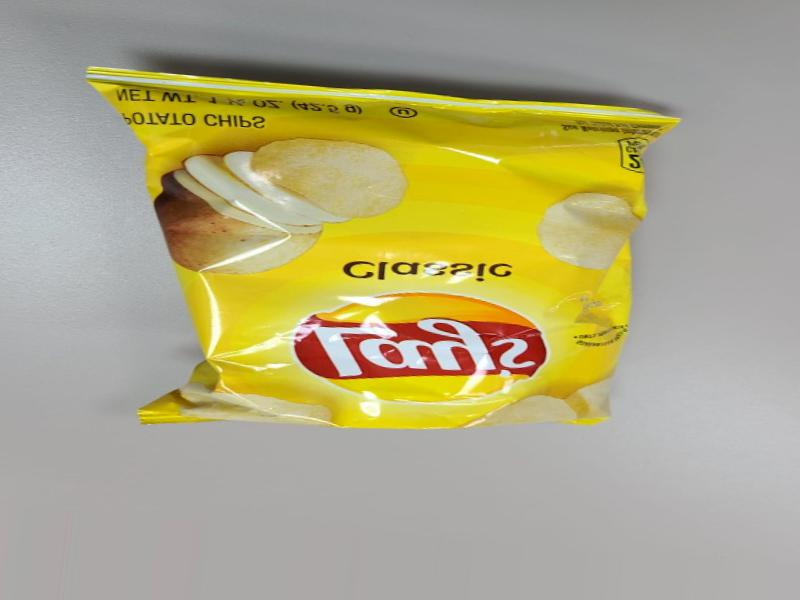lays: (156, 100, 584, 437)
